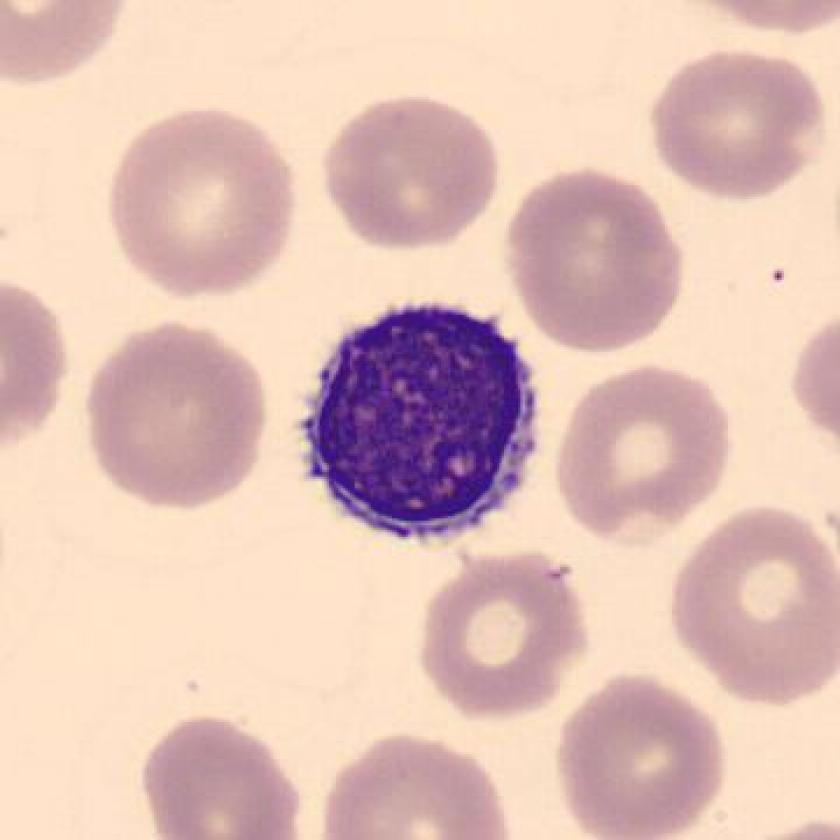lymphocyte: (276, 286, 561, 556)
